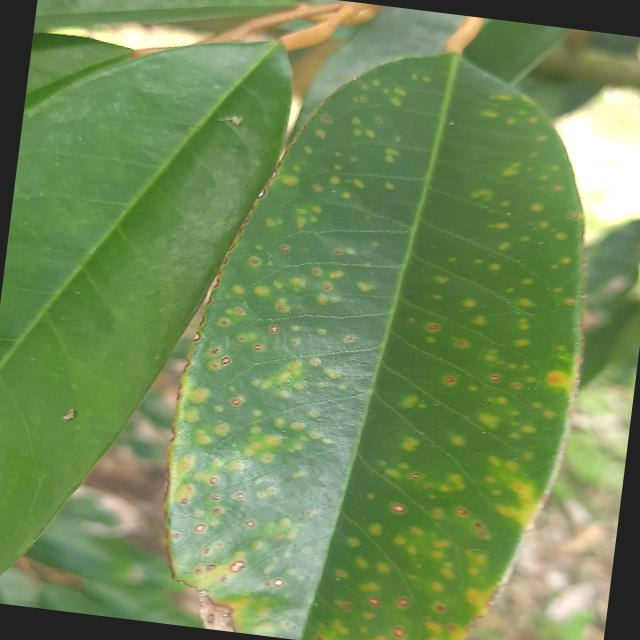Leaf Spot: (153, 15, 629, 639)
